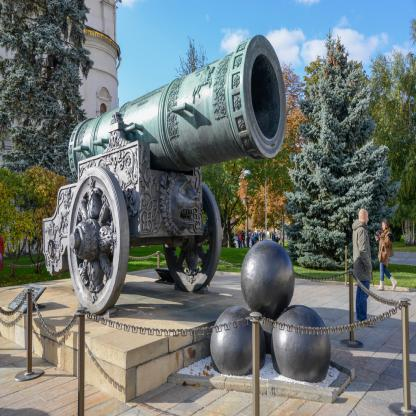Ball: (240, 238, 296, 322), (272, 304, 328, 382), (210, 303, 266, 377)
